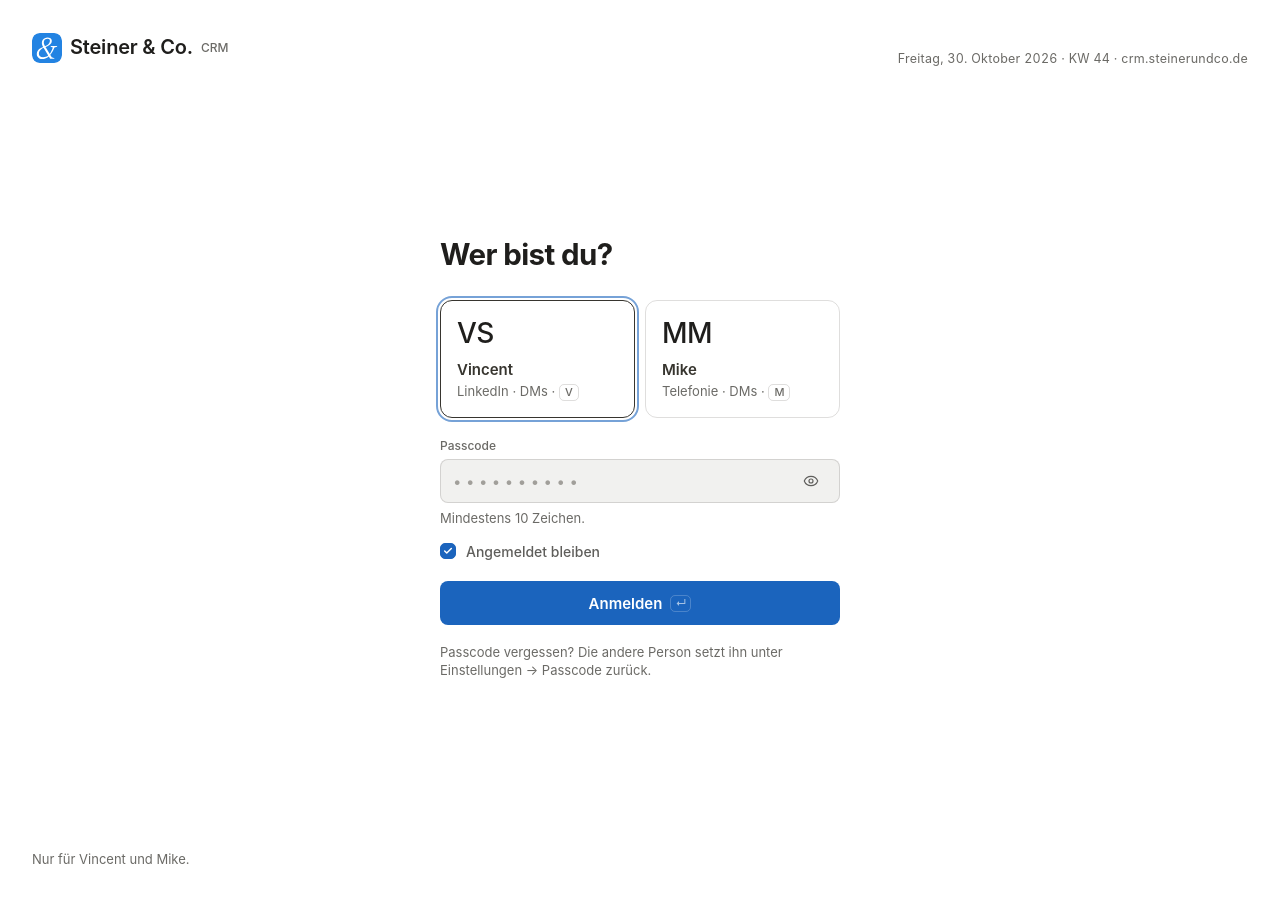
Anmelden › L-03: falscher Passcode → Meldung, Text bleibt im Feld
Type "zehn-zeichen-x" into the password field labelled "Passcode" at (620, 481), box [453,460,787,502]
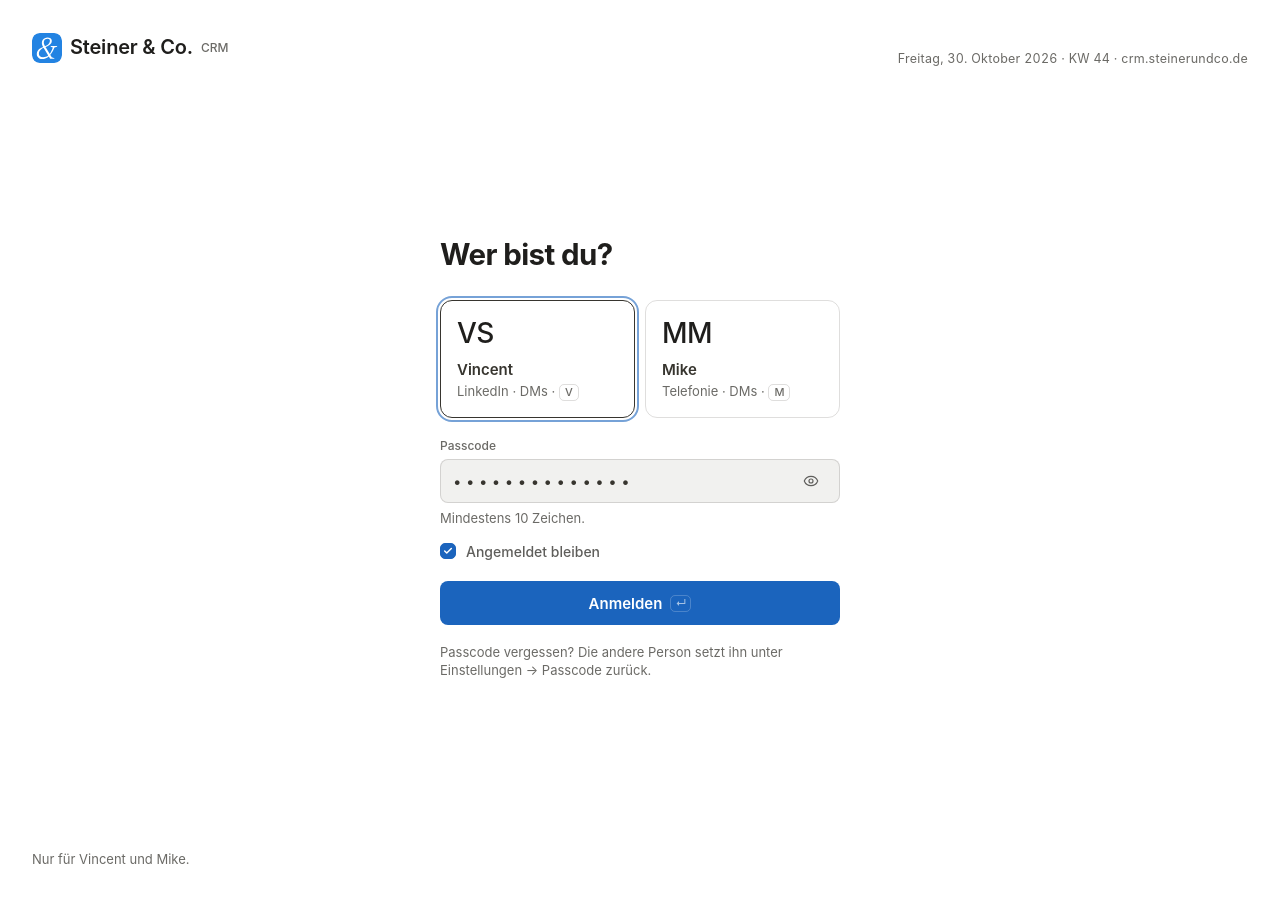
Click the button "Anmelden ↵" at (640, 603), box [440,581,840,625]
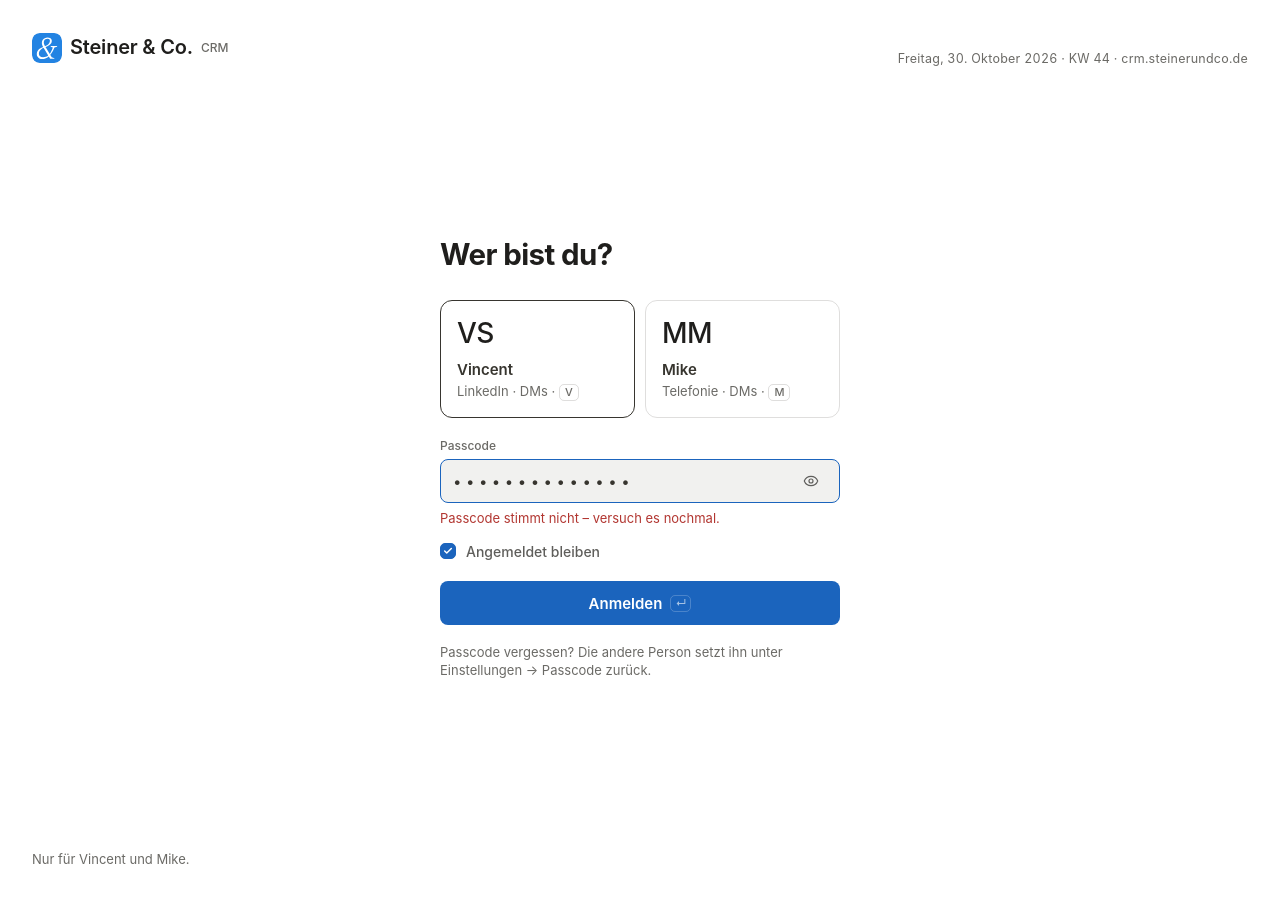
Expected: the message reads "Passcode stimmt nicht – versuch es nochmal.", [440,510,720,526]
